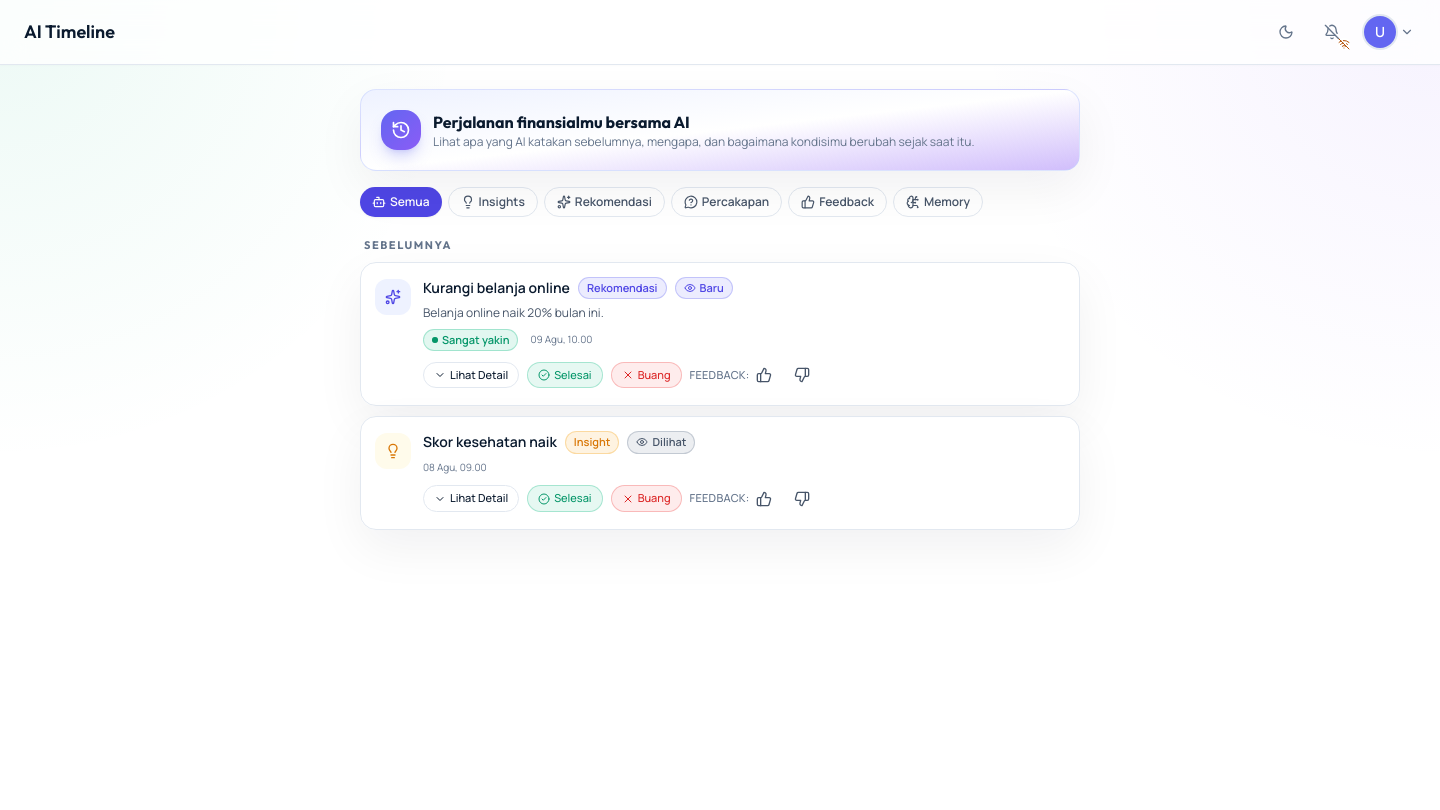
Test: AiTimelinePage — detail & status actions › buka detail recommendation → getTimelineEvent + status new→viewed + recommendation_opened
Check: the text "Kurangi belanja online" is shown, box [423,278,570,298]
Click the button with aria-label "Lihat detail Kurangi belanja online": (471,375) [423,362,519,388]
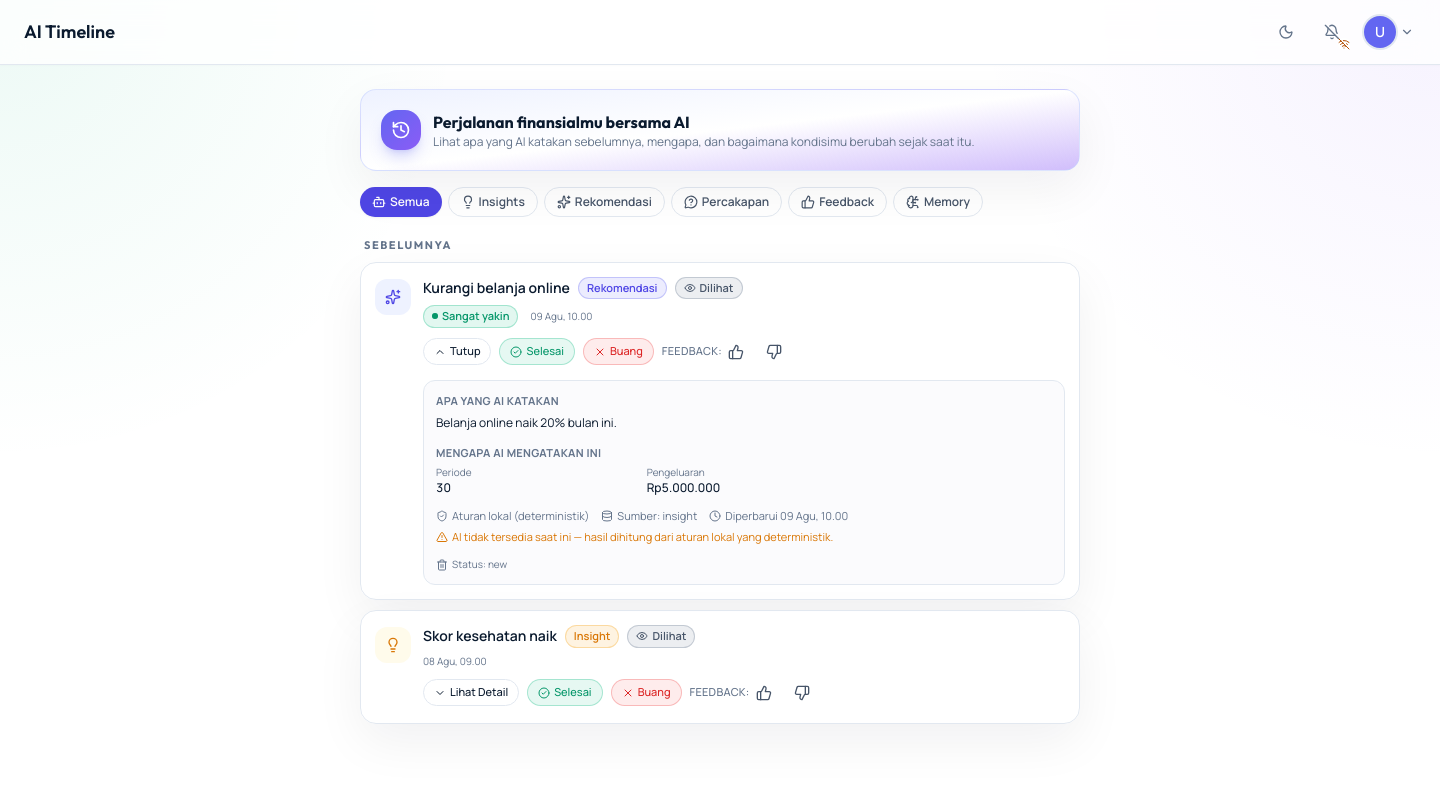
Check: the text "Apa yang AI katakan" is shown, box [436,392,559,408]
